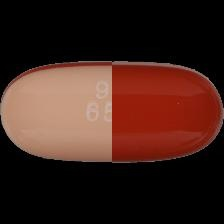54868-4582: (0, 0, 224, 224)
